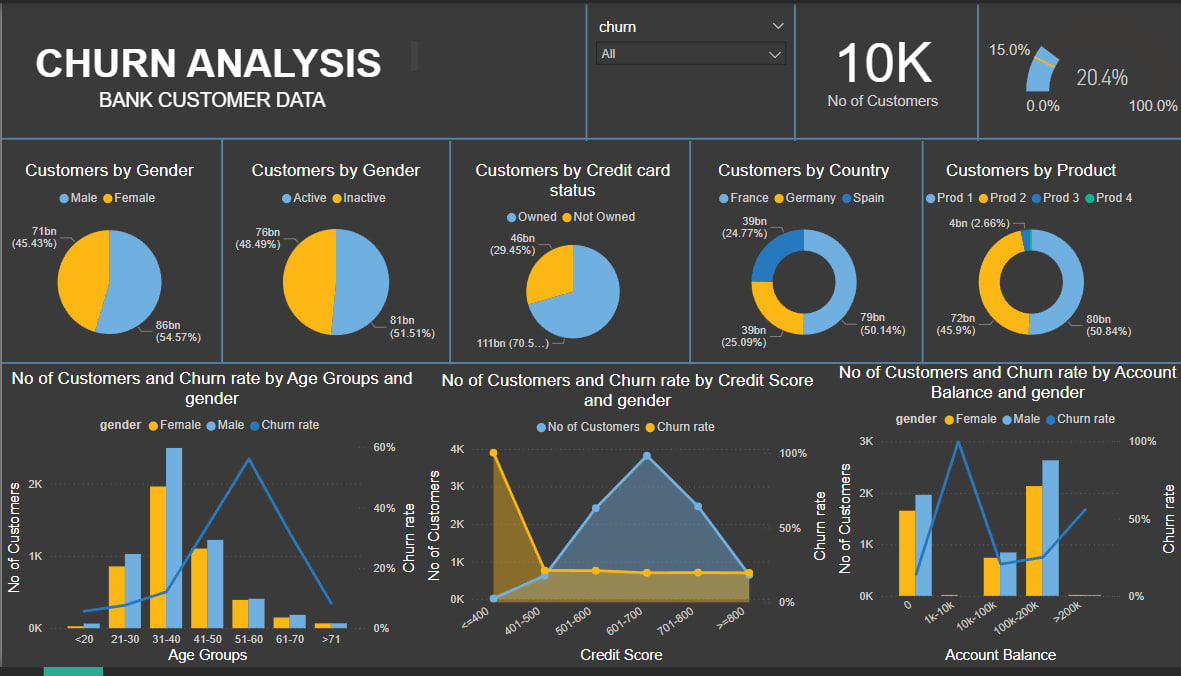

Layout of this report page (visuals, bound fields, positions):
{"tool":"powerbi","page":{"name":"Page 1","canvas":[1280,720],"ordinal":0},"visuals":[{"type":"card","fields":{"Values":["Customer Data.No of Customers"]},"box":[866.9,6.1,175.8,123.6],"z":0},{"type":"pieChart","title":"Customers by Gender","fields":{"Category":["Customer Data.gender"],"Y":["Sum(Customer Data.customer_id)"]},"box":[0,170.8,232.6,213.1],"z":2000},{"type":"pieChart","title":"Customers by Gender","fields":{"Y":["Sum(Customer Data.customer_id)"],"Category":["Customer Data.active_member"]},"box":[232.6,170.8,258.6,213.1],"z":3000},{"type":"pieChart","title":"Customers by Credit card status","fields":{"Y":["Sum(Customer Data.customer_id)"],"Category":["Customer Data.credit_card_status"]},"box":[491.2,170.8,255.4,213.1],"z":4000},{"type":"donutChart","title":"Customers by Country","fields":{"Y":["Sum(Customer Data.customer_id)"],"Category":["Customer Data.country"]},"box":[746.6,170.8,245.6,213.1],"z":5000},{"type":"donutChart","title":"Customers by Product","fields":{"Y":["Sum(Customer Data.customer_id)"],"Category":["Customer Data.Products"]},"box":[992.2,170.8,247.2,213.1],"z":6000},{"type":"lineClusteredColumnComboChart","title":"No of Customers and Churn rate by Age Groups and gender","fields":{"Y":["Customer Data.No of Customers"],"Category":["Age Groups.Age Groups"],"Y2":["Customer Data.Churn rate"],"Series":["Customer Data.gender"]},"box":[0,396.9,455.4,323.7],"z":7000},{"type":"areaChart","title":"No of Customers and Churn rate by Credit Score and gender","fields":{"Category":["Credit Score Groups.Credit Score"],"Y":["Customer Data.No of Customers"],"Y2":["Customer Data.Churn rate"]},"box":[455.4,398.5,445.7,322.1],"z":8000},{"type":"lineClusteredColumnComboChart","title":"No of Customers and Churn rate by Account Balance and gender","fields":{"Y":["Customer Data.No of Customers"],"Y2":["Customer Data.Churn rate"],"Series":["Customer Data.gender"],"Category":["Account Balance Groups.Account Balance"]},"box":[901.1,390.4,379,330.2],"z":9000},{"type":"slicer","fields":{"Values":["Customer Data.churn"]},"box":[633.6,12.2,226.3,111.4],"z":9001},{"type":"gauge","fields":{"Y":["Customer Data.Churn rate"],"MinValue":["Min(Customer Data.Min Churn Rate)"],"MaxValue":["Max(Customer Data.Max Churn Rate)"],"TargetValue":["Max(Customer Data.Target Churn Rate)"]},"box":[1058.9,6.1,221.2,123.6],"z":9002},{"type":"shape","box":[0,123.6,1280.1,47.2],"z":9003},{"type":"shape","box":[0,383.9,1280.1,13],"z":9004},{"type":"shape","box":[233.3,148,12.2,242],"z":9005},{"type":"shape","box":[480.4,149.7,12.2,242],"z":9006},{"type":"shape","box":[739.8,149.7,12.2,242],"z":9007},{"type":"shape","box":[992.2,149.7,12.2,242],"z":9008},{"type":"textbox","box":[0,36.6,456.1,50.5],"z":9009},{"type":"textbox","box":[94,87,301.1,36.6],"z":9010},{"type":"shape","box":[618,1.7,31.3,148],"z":9011},{"type":"shape","box":[844.2,1.7,31.3,148],"z":9012},{"type":"shape","box":[1042.7,1.7,31.3,148],"z":9013}]}

Visuals, with their boxes in screenshot pixels (x1, y1, x2, y2), scaled from the page's 1280x720 canvas onto the 1181x676 screenshot:
card - Customer Data.No of Customers: <region>800, 6, 962, 122</region>
"Customers by Gender" pieChart: <region>0, 160, 215, 360</region>
"Customers by Gender" pieChart: <region>215, 160, 453, 360</region>
"Customers by Credit card status" pieChart: <region>453, 160, 689, 360</region>
"Customers by Country" donutChart: <region>689, 160, 915, 360</region>
"Customers by Product" donutChart: <region>915, 160, 1144, 360</region>
"No of Customers and Churn rate by Age Groups and gender" lineClusteredColumnComboChart: <region>0, 373, 420, 675</region>
"No of Customers and Churn rate by Credit Score and gender" areaChart: <region>420, 374, 831, 675</region>
"No of Customers and Churn rate by Account Balance and gender" lineClusteredColumnComboChart: <region>831, 367, 1180, 675</region>
slicer - Customer Data.churn: <region>585, 11, 793, 116</region>
gauge - Customer Data.Churn rate x Min(Customer Data.Min Churn Rate): <region>977, 6, 1180, 122</region>
shape: <region>0, 116, 1180, 160</region>
shape: <region>0, 360, 1180, 373</region>
shape: <region>215, 139, 227, 366</region>
shape: <region>443, 141, 455, 368</region>
shape: <region>683, 141, 694, 368</region>
shape: <region>915, 141, 927, 368</region>
textbox: <region>0, 34, 421, 82</region>
textbox: <region>87, 82, 365, 116</region>
shape: <region>570, 2, 599, 141</region>
shape: <region>779, 2, 808, 141</region>
shape: <region>962, 2, 991, 141</region>
